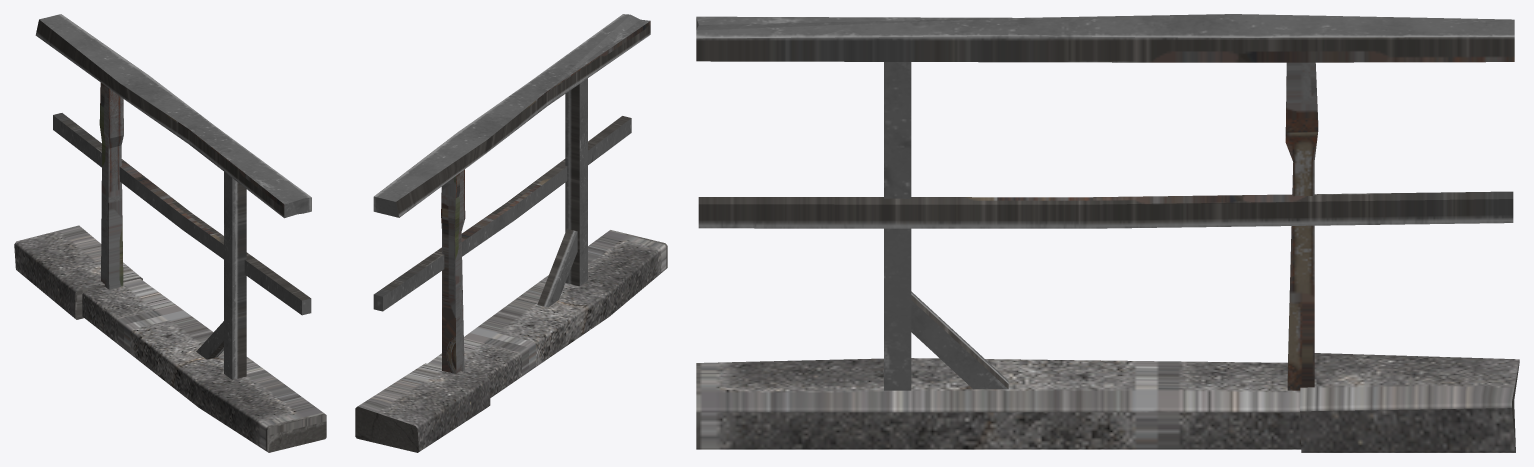
File: MC_Battlements_Wall_F_2m.fbx
3 views of the same model, side by side, from view 1: azimuth 30°, elevation 25°; view 2: azimuth 150°, elevation 25°; view 3: azimuth 270°, elevation 25° (orthographic). The views are drawn at different scales.
Parts seen in each view (by area): view 1: MC_Battlements_Wall_F_2m_LOD0; view 2: MC_Battlements_Wall_F_2m_LOD0; view 3: MC_Battlements_Wall_F_2m_LOD0.
Part boxes in pixels (<box>): MC_Battlements_Wall_F_2m_LOD0: <box>14,14,326,452</box>; MC_Battlements_Wall_F_2m_LOD0: <box>355,14,667,452</box>; MC_Battlements_Wall_F_2m_LOD0: <box>696,14,1519,452</box>.
Size of what is drawn, in the model's own units: 33.06 by 110 by 204.
